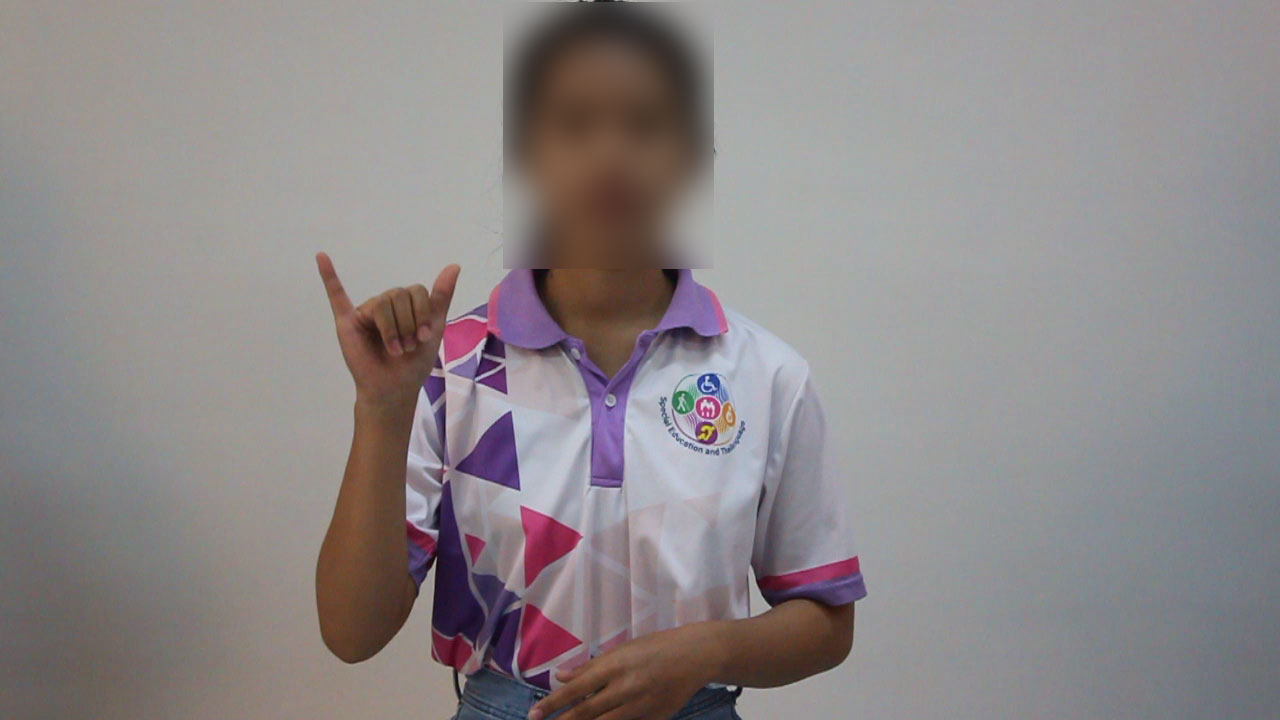yor: (304, 244, 467, 411)
